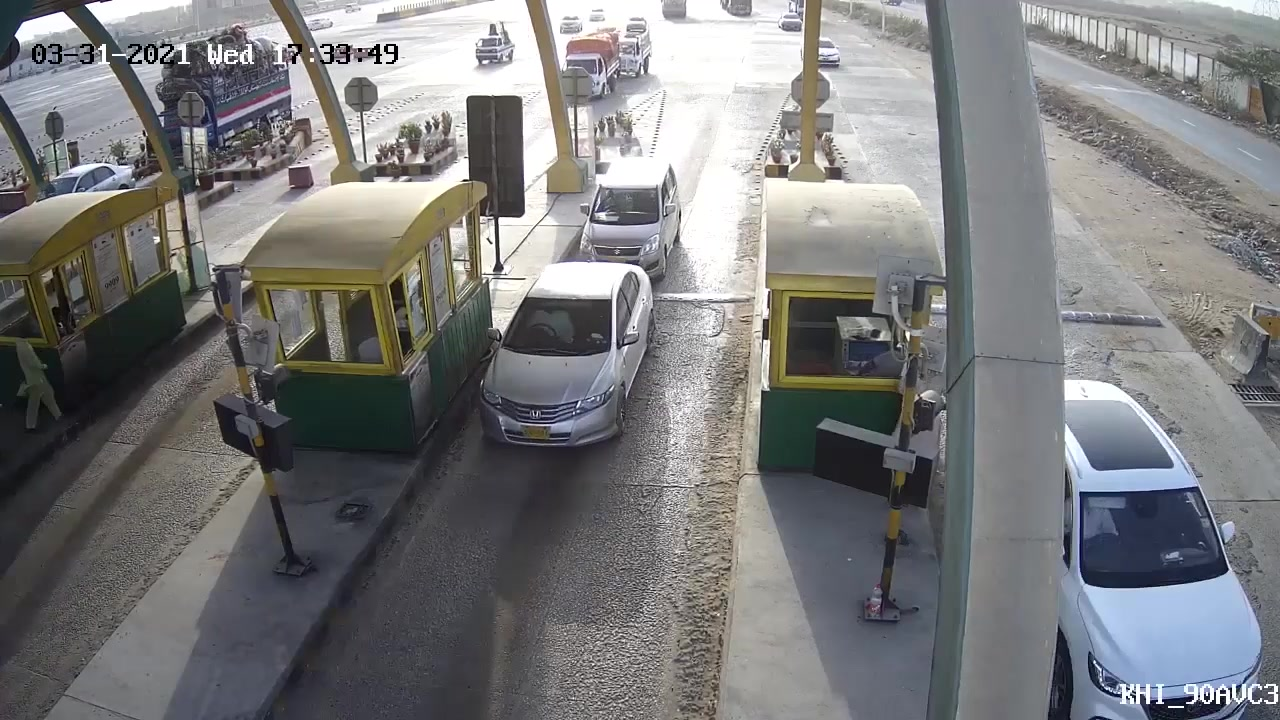F1: (482, 261, 653, 457)
